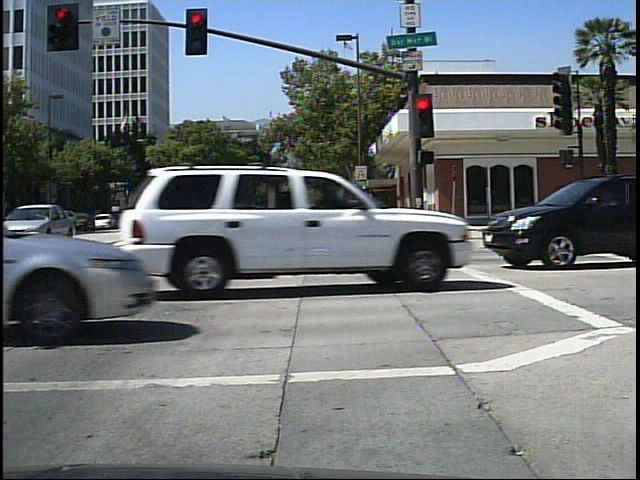person: (288, 203, 301, 221)
